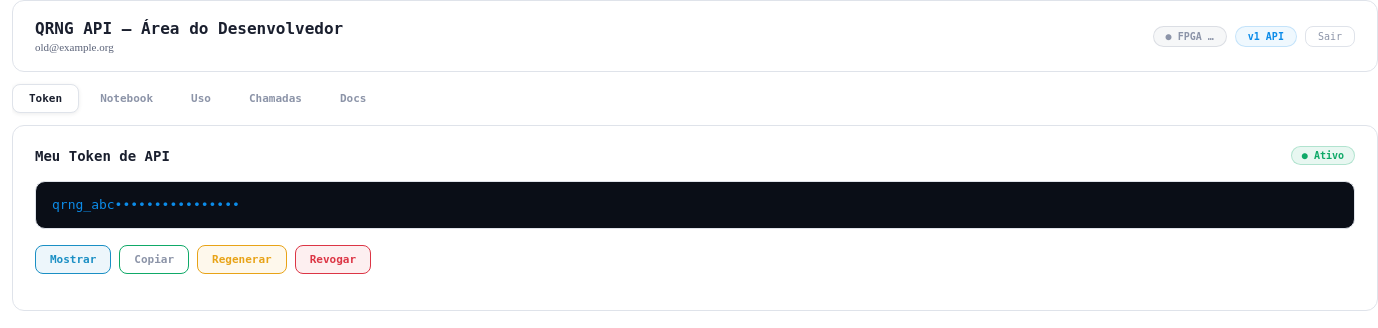
Test: DeveloperPage — a credencial é a da sessão mostrada nesta aba › outra aba troca o JWT legado (outra conta antiga): 'Revogar' NÃO sai e a página volta à entrada com a conta nova
The image size is (1378, 328).
Expected: the text "old@example.org" is shown, [35,41,114,53]
Click the button "Revogar" at (333, 260), box [295,245,371,274]
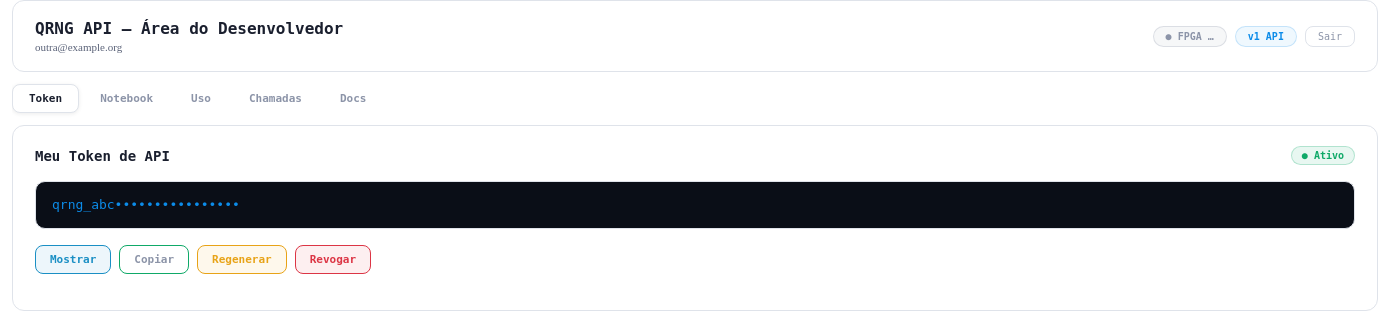
Now the text "outra@example.org" is shown, box [35,41,122,53]
